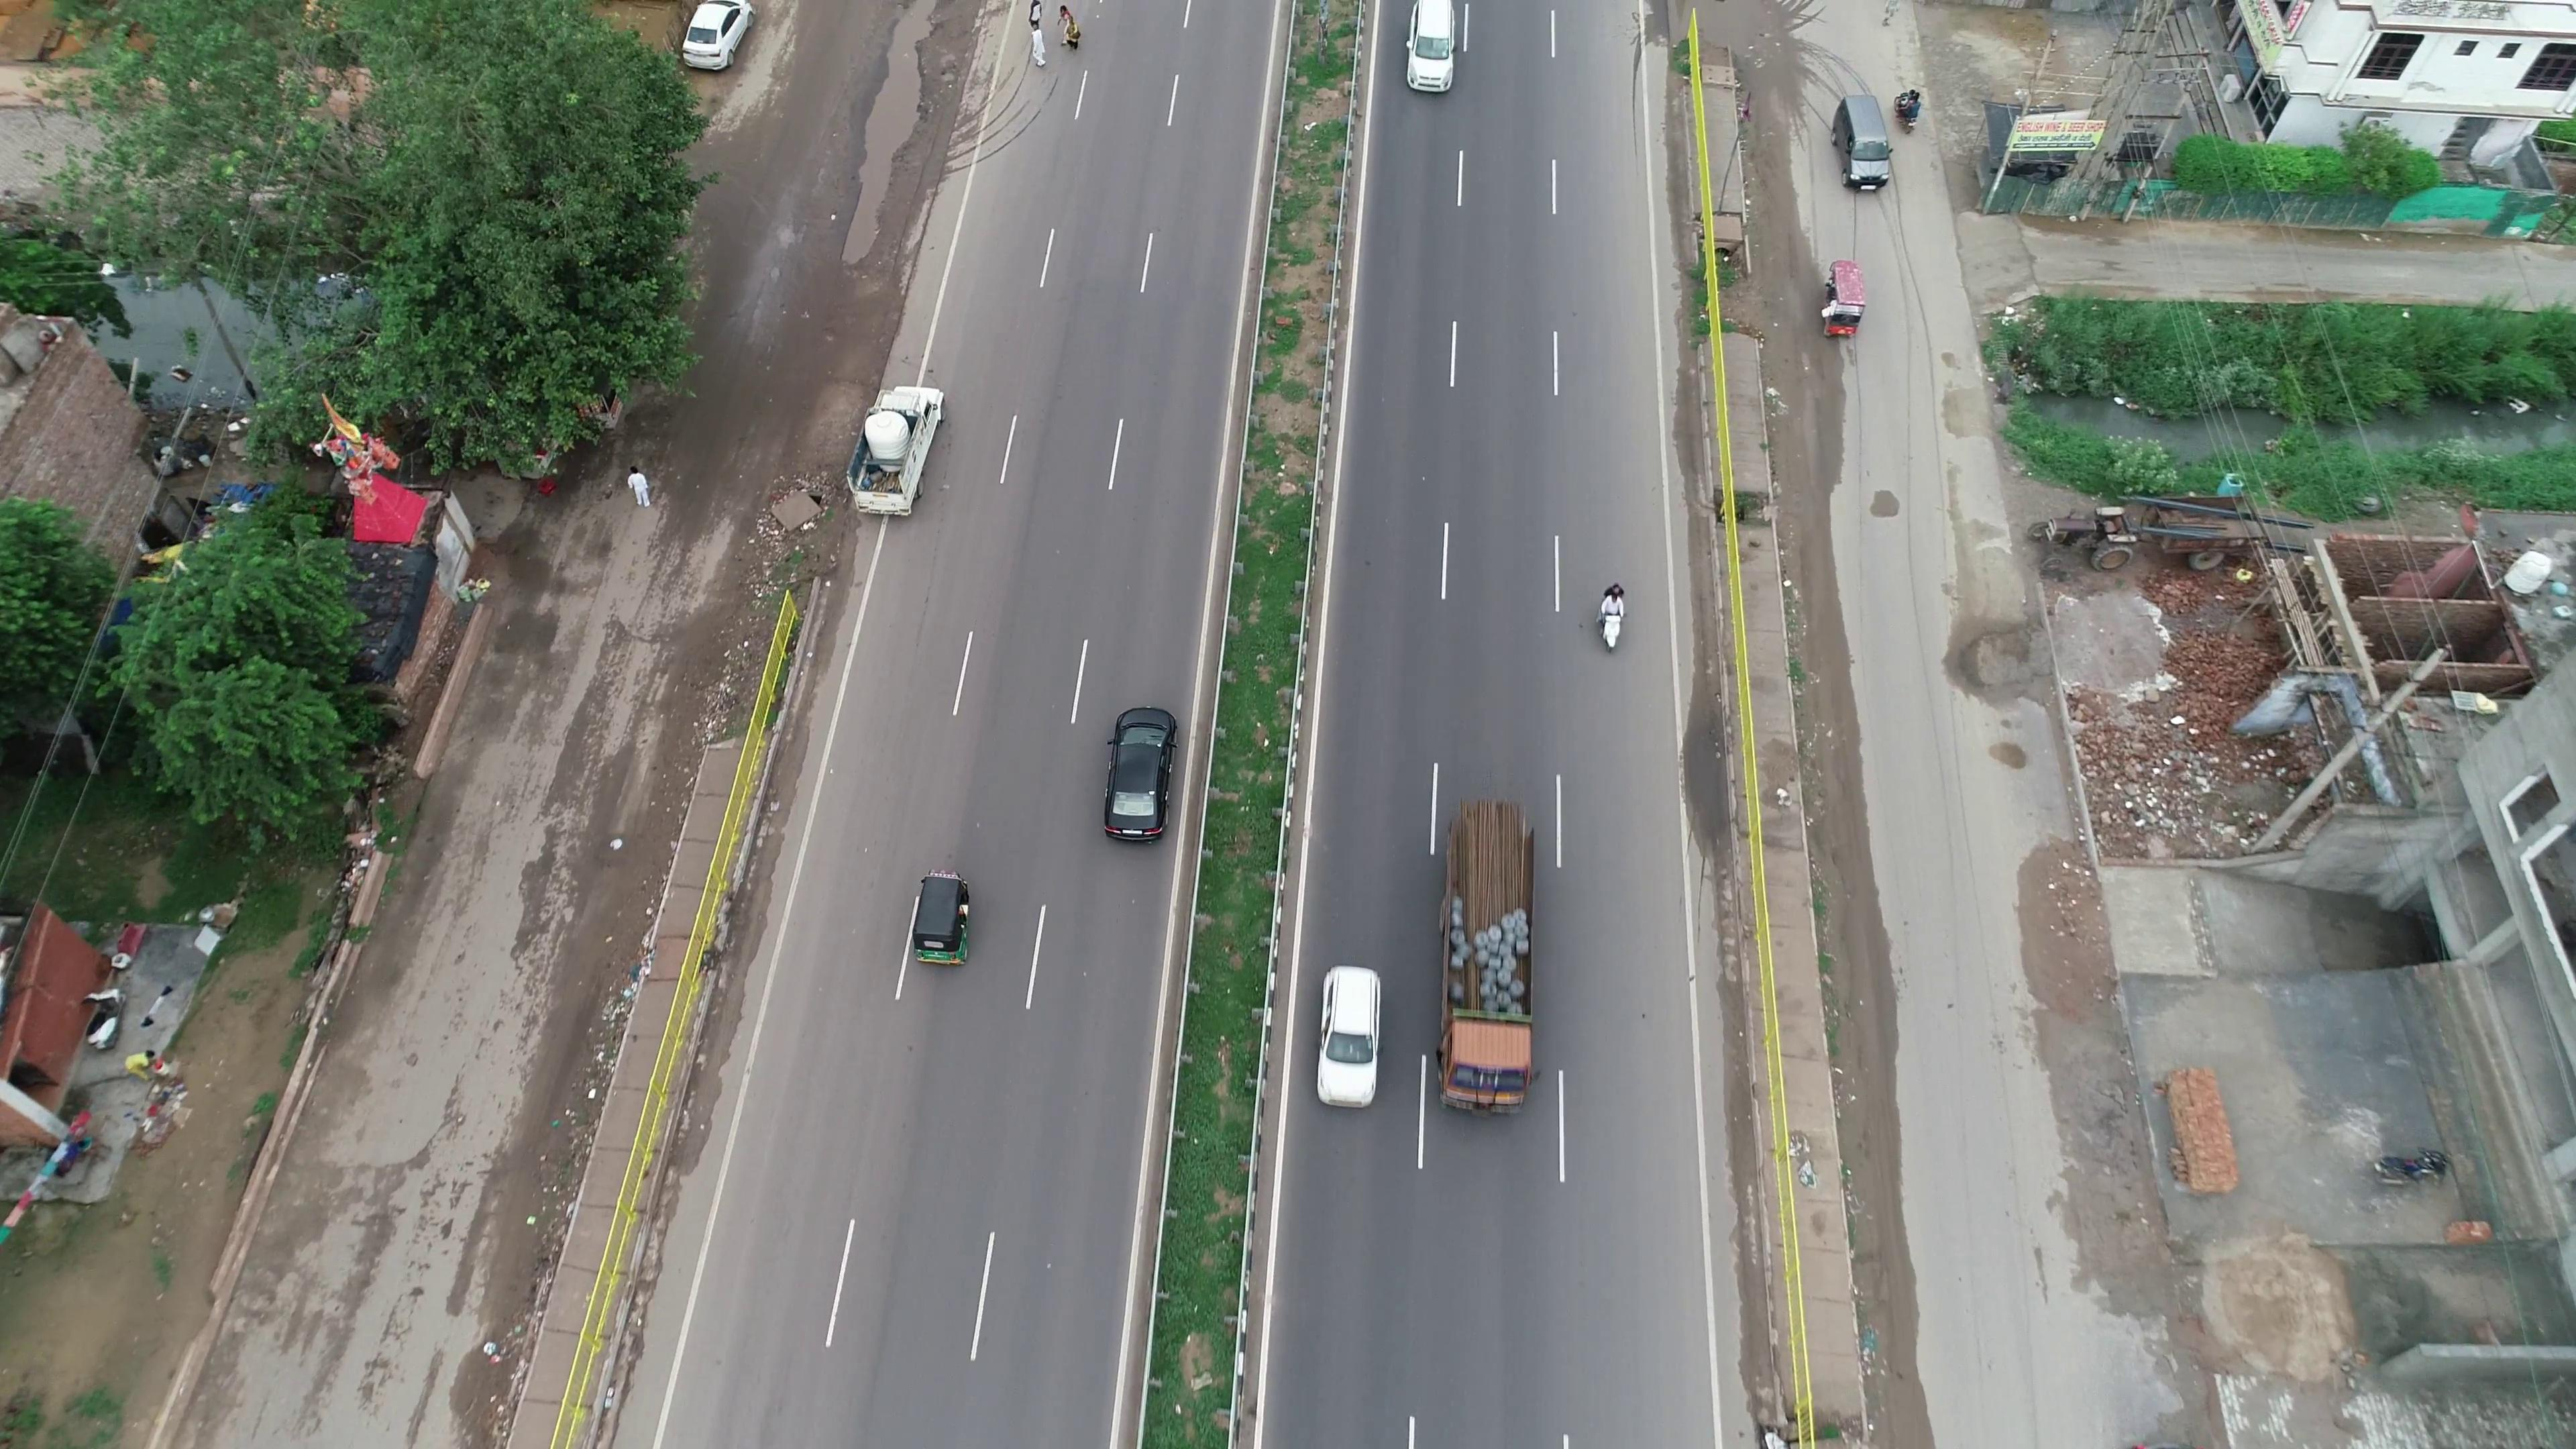Muddy_road: (2006, 860, 2121, 1256), (1803, 720, 1918, 1035), (1783, 414, 1870, 704)
